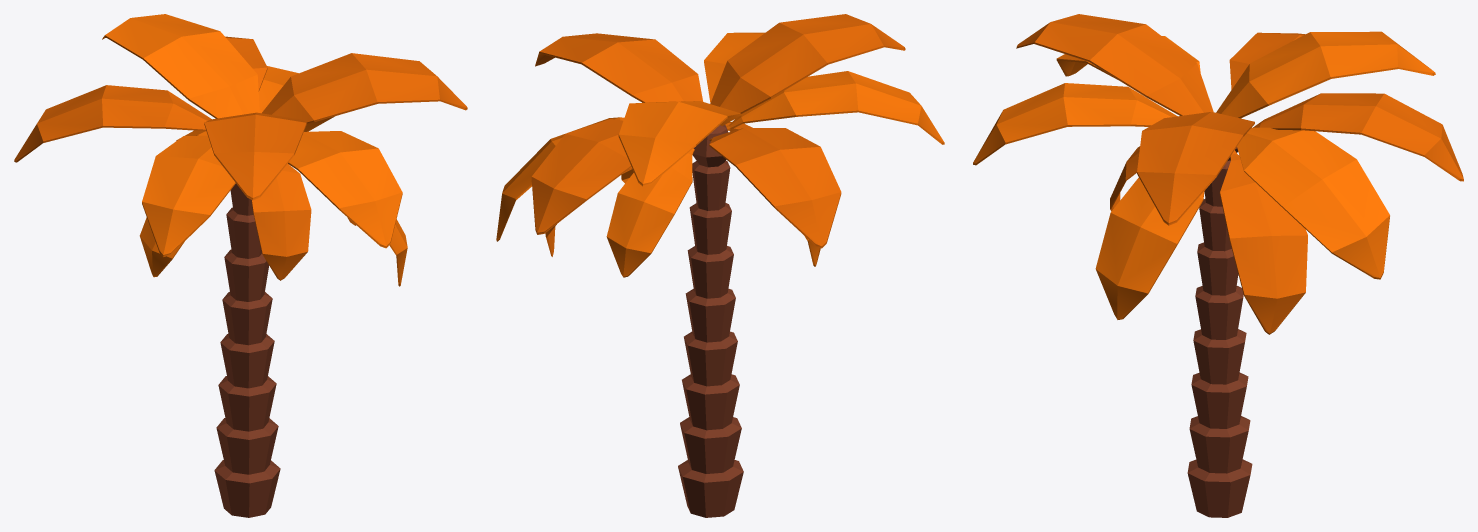
The model's file is Tree_09_Fall.fbx.
3 renders of one model, left to right at view 1: azimuth 30°, elevation 25°; view 2: azimuth 150°, elevation 25°; view 3: azimuth 270°, elevation 25°, orthographic. The views are drawn at different scales.
Parts seen in each view (by area): view 1: Tree_09_p2_Fall, Tree_09_p1_Fall; view 2: Tree_09_p2_Fall, Tree_09_p1_Fall; view 3: Tree_09_p2_Fall, Tree_09_p1_Fall.
Part boxes in pixels (x1=…): Tree_09_p2_Fall: x1=14, y1=14, x2=467, y2=286; Tree_09_p1_Fall: x1=214, y1=183, x2=280, y2=517; Tree_09_p2_Fall: x1=496, y1=14, x2=944, y2=277; Tree_09_p1_Fall: x1=678, y1=125, x2=743, y2=517; Tree_09_p2_Fall: x1=973, y1=14, x2=1463, y2=334; Tree_09_p1_Fall: x1=1187, y1=147, x2=1252, y2=517.
Size of the model in its own units: 333 by 380 by 373.
